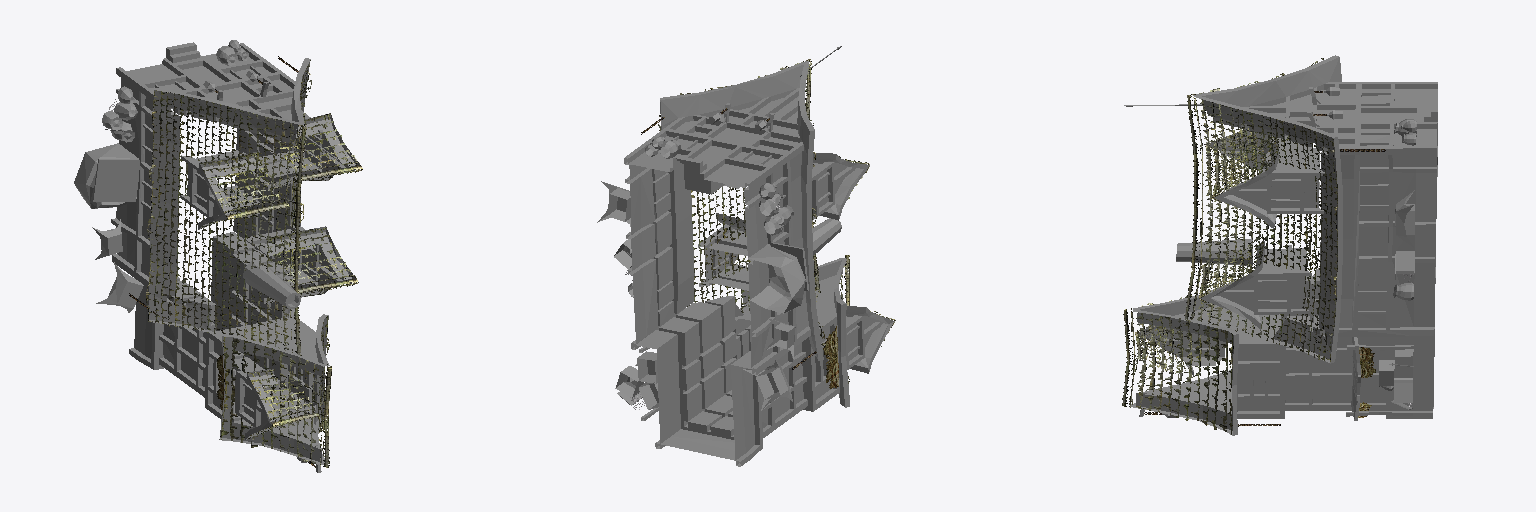
3 views of the same model, side by side, from view 1: azimuth 30°, elevation 25°; view 2: azimuth 150°, elevation 25°; view 3: azimuth 270°, elevation 25° (orthographic).
Parts seen in each view (by area): view 1: DrawCall_3; view 2: DrawCall_3; view 3: DrawCall_3.
Boxes of the visible parts, <box> form: DrawCall_3: <box>74,40,362,472</box>; DrawCall_3: <box>597,46,895,466</box>; DrawCall_3: <box>1122,55,1437,435</box>.
Bounding box in the file's own units: 39.09 × 59.68 × 51.84.
5 materials, 2 textured.